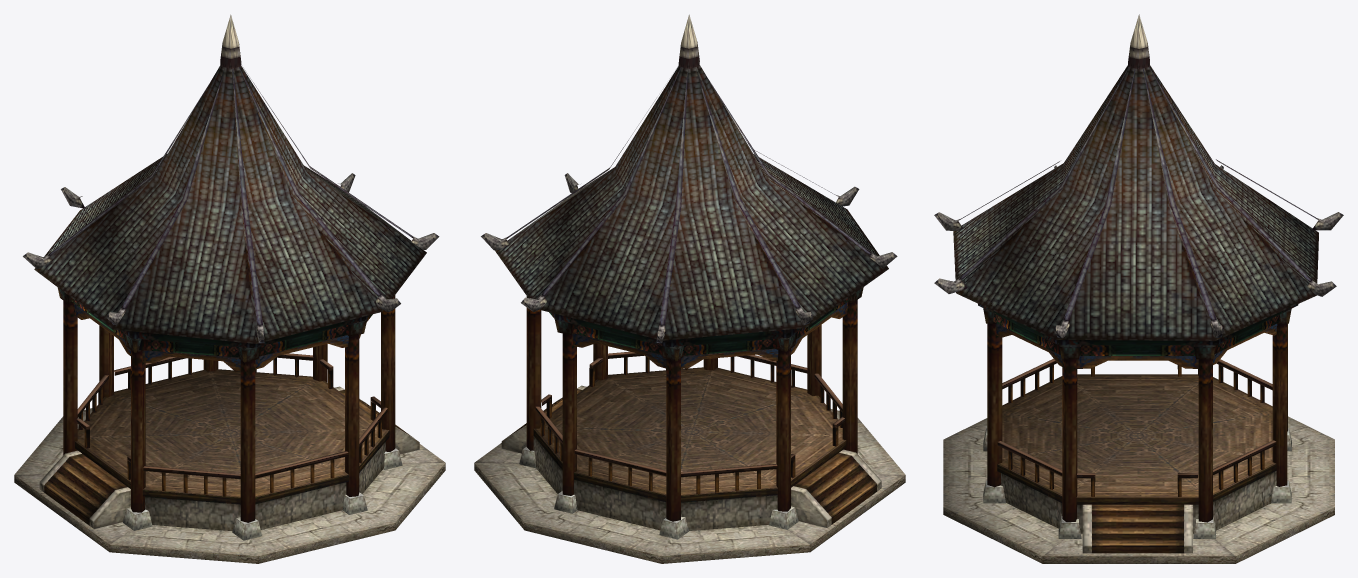
Rendered from b1-001-house3_lod_01.glb.
3 views of the same model, side by side, from view 1: azimuth 30°, elevation 25°; view 2: azimuth 150°, elevation 25°; view 3: azimuth 270°, elevation 25° (orthographic).
Visible parts, largest first — view 1: b1-001-house3; view 2: b1-001-house3; view 3: b1-001-house3.
Part boxes in pixels (x1,y1,x2,y2): b1-001-house3: (14, 14, 445, 563); b1-001-house3: (474, 14, 905, 563); b1-001-house3: (934, 14, 1343, 563).
Bounding box in the file's own units: 8.16 × 10.72 × 8.52.
1 material, 1 textured.
